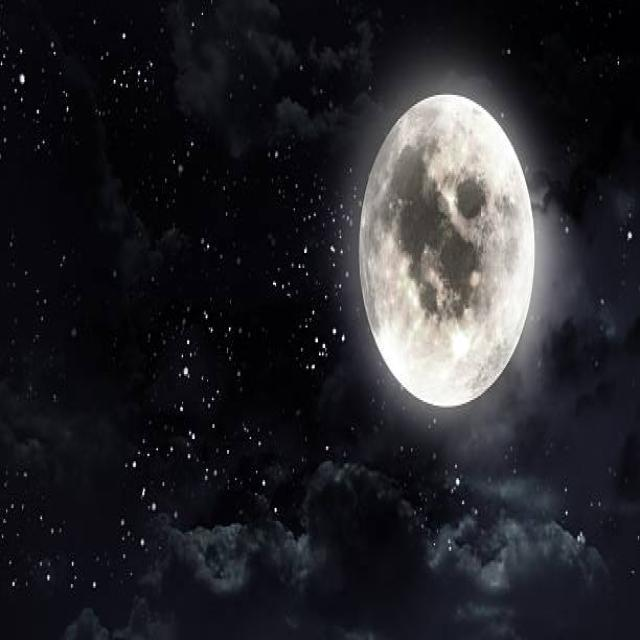moon: (353, 92, 538, 408)
